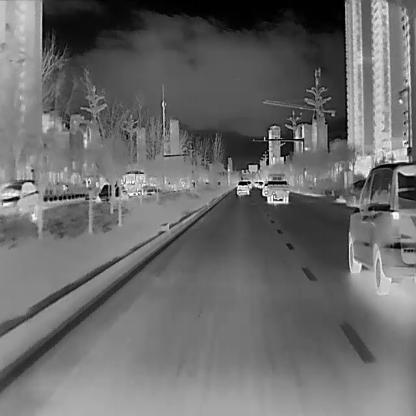bus: (122, 171, 146, 196)
car: (348, 160, 416, 294), (0, 177, 38, 217), (96, 184, 129, 203), (236, 180, 250, 194), (262, 182, 266, 196), (258, 180, 264, 188), (253, 180, 259, 187)
truck: (266, 172, 290, 202)
